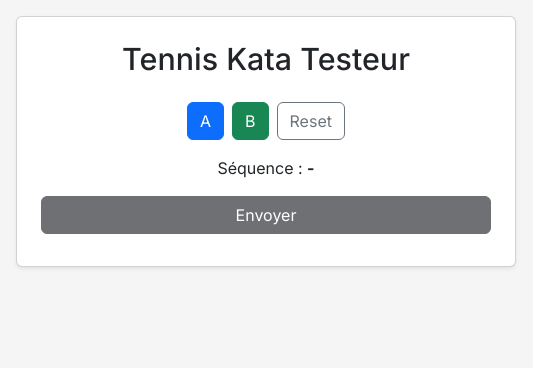
Test case: TennisGameComponent › affiche une erreur si la requête échoue
This screenshot has width=533, height=368.
Click the button "A": (206, 120) [187,102,224,140]
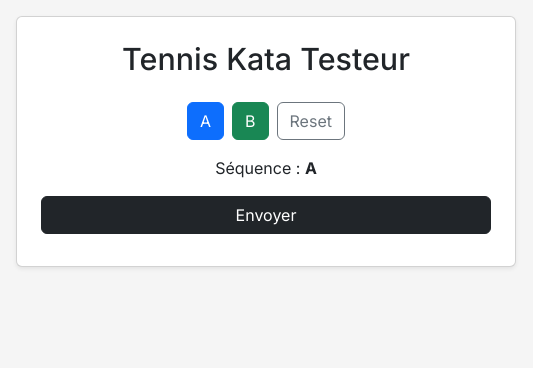
Click the button "Envoyer": (266, 214) [41,196,491,234]
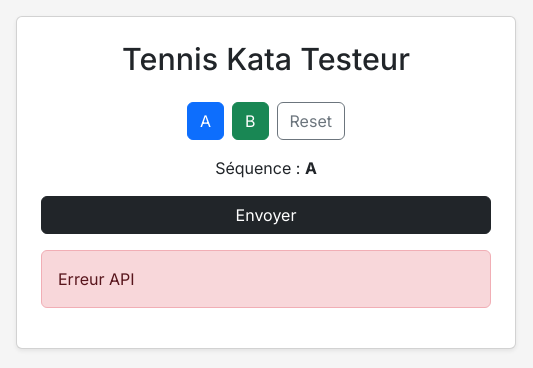
Result: the text "Erreur API" is shown at [41,250,491,308]
